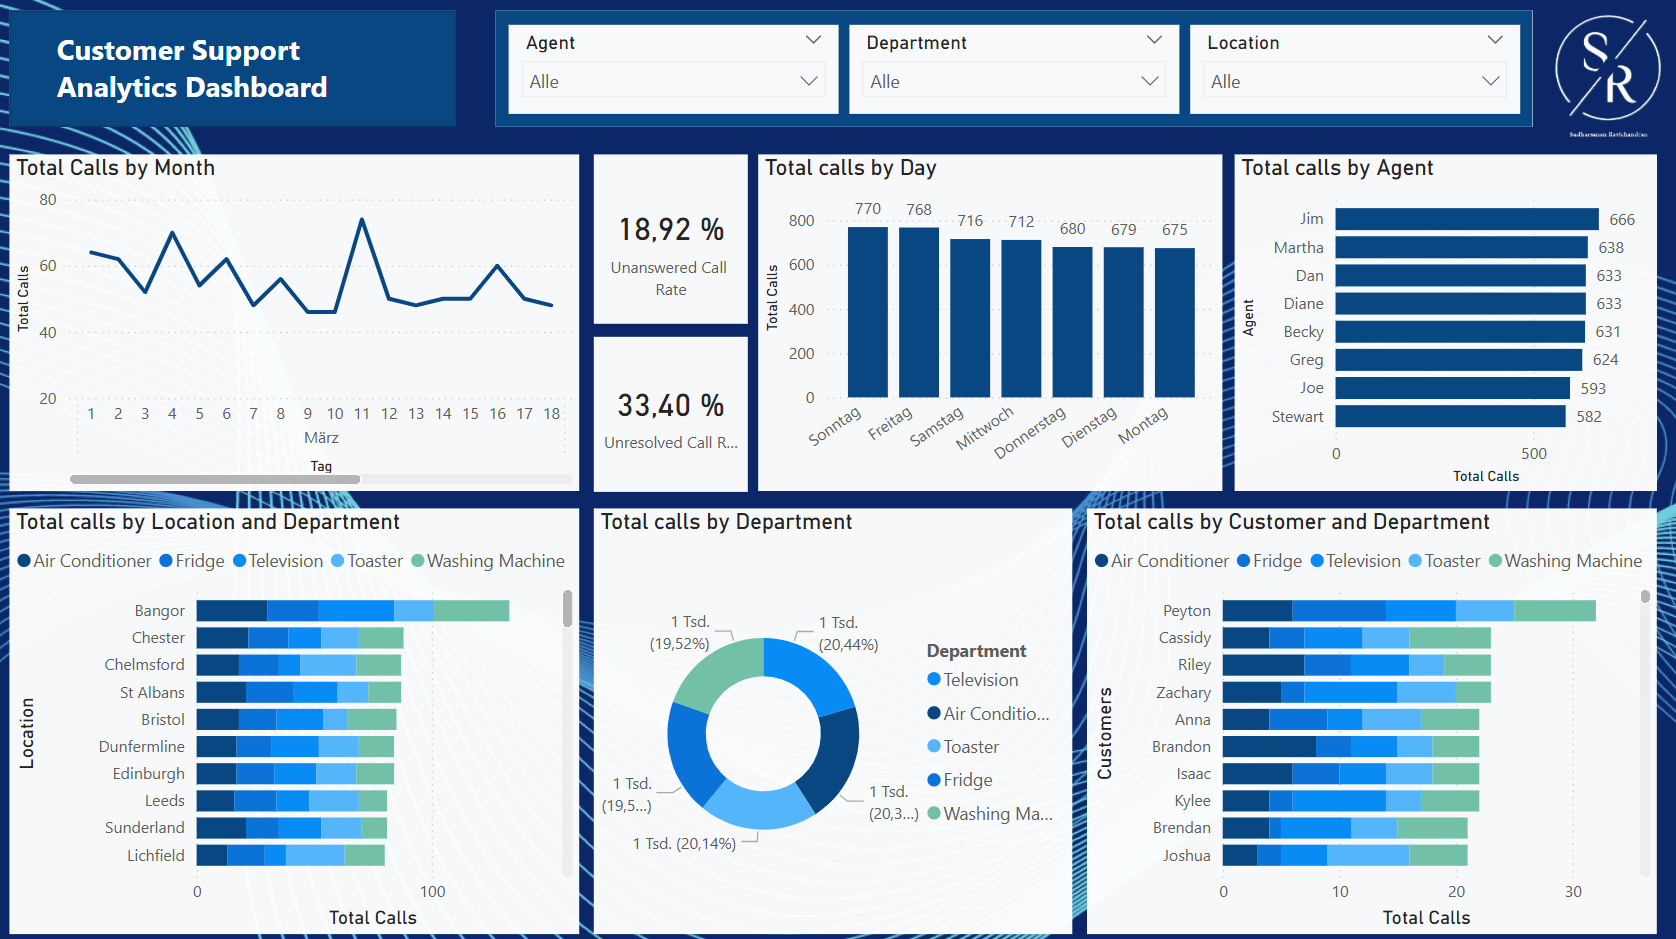

Layout of this report page (visuals, bound fields, positions):
{"tool":"powerbi","page":{"name":"Main page","canvas":[1280,720],"ordinal":0},"visuals":[{"type":"lineChart","title":"Total Calls by Month","fields":{"Category":["Call-Center.Date.Variation.Datumshierarchie.Monat","Call-Center.Date.Variation.Datumshierarchie.Tag"],"Y":["Tabelle.Total rows"]},"box":[10.8,120.4,432,255.1],"z":0},{"type":"lineClusteredColumnComboChart","title":"Total calls by Day","fields":{"Category":["Call-Center.Name des Tags"],"Y":["Tabelle.Total Calls"]},"box":[578.4,120.4,352.1,255.1],"z":1000},{"type":"donutChart","title":"Total calls by Department","fields":{"Category":["Call-Center.Department"],"Y":["Tabelle.Total Calls"]},"box":[453.6,388,362.8,322.4],"z":2000},{"type":"barChart","title":"Total calls by Location and Department","fields":{"Category":["Call-Center.Location"],"Y":["Tabelle.Total rows"],"Series":["Call-Center.Department"]},"box":[10.8,388,432,322.4],"z":3000},{"type":"shape","box":[10.9,10.9,338.2,88.2],"z":4000},{"type":"clusteredBarChart","title":"Total calls by Agent","fields":{"Category":["Call-Center.Agent"],"Y":["Tabelle.Total rows"]},"box":[939.5,120.4,319.7,255.1],"z":5000},{"type":"barChart","title":"Total calls by Customer and Department","fields":{"Category":["Call-Center.Customers"],"Y":["Tabelle.Total rows"],"Series":["Call-Center.Department"]},"box":[827.2,388,432,322.4],"z":6000},{"type":"textbox","box":[41.8,20,276.4,67.3],"z":7000},{"type":"card","fields":{"Values":["Tabelle.Calls Unanswered"]},"box":[453.6,120.4,116.8,128.4],"z":8000},{"type":"card","fields":{"Values":["Tabelle.Unresolved Call Rate"]},"box":[453.6,257.8,116.8,117.7],"z":9000},{"type":"image","box":[1164.2,0,114.7,120],"z":10000},{"type":"shape","box":[379.1,10.9,785.5,88.2],"z":11000},{"type":"slicer","fields":{"Values":["Call-Center.Agent"]},"box":[389.1,21.8,250,67.3],"z":12000},{"type":"slicer","fields":{"Values":["Call-Center.Department"]},"box":[647.3,21.8,250,67.3],"z":13000},{"type":"slicer","fields":{"Values":["Call-Center.Location"]},"box":[905.5,21.8,250,67.3],"z":14000}]}

Visuals, with their boxes in screenshot pixels (x1, y1, x2, y2), scaled from the page's 1280x720 canvas onto the 1676x939 screenshot:
"Total Calls by Month" lineChart: bbox(14, 157, 580, 490)
"Total calls by Day" lineClusteredColumnComboChart: bbox(757, 157, 1218, 490)
"Total calls by Department" donutChart: bbox(594, 506, 1069, 926)
"Total calls by Location and Department" barChart: bbox(14, 506, 580, 926)
shape: bbox(14, 14, 457, 129)
"Total calls by Agent" clusteredBarChart: bbox(1230, 157, 1649, 490)
"Total calls by Customer and Department" barChart: bbox(1083, 506, 1649, 926)
textbox: bbox(55, 26, 417, 114)
card - Tabelle.Calls Unanswered: bbox(594, 157, 747, 324)
card - Tabelle.Unresolved Call Rate: bbox(594, 336, 747, 490)
image: bbox(1524, 0, 1675, 156)
shape: bbox(496, 14, 1525, 129)
slicer - Call-Center.Agent: bbox(509, 28, 837, 116)
slicer - Call-Center.Department: bbox(848, 28, 1175, 116)
slicer - Call-Center.Location: bbox(1186, 28, 1513, 116)
